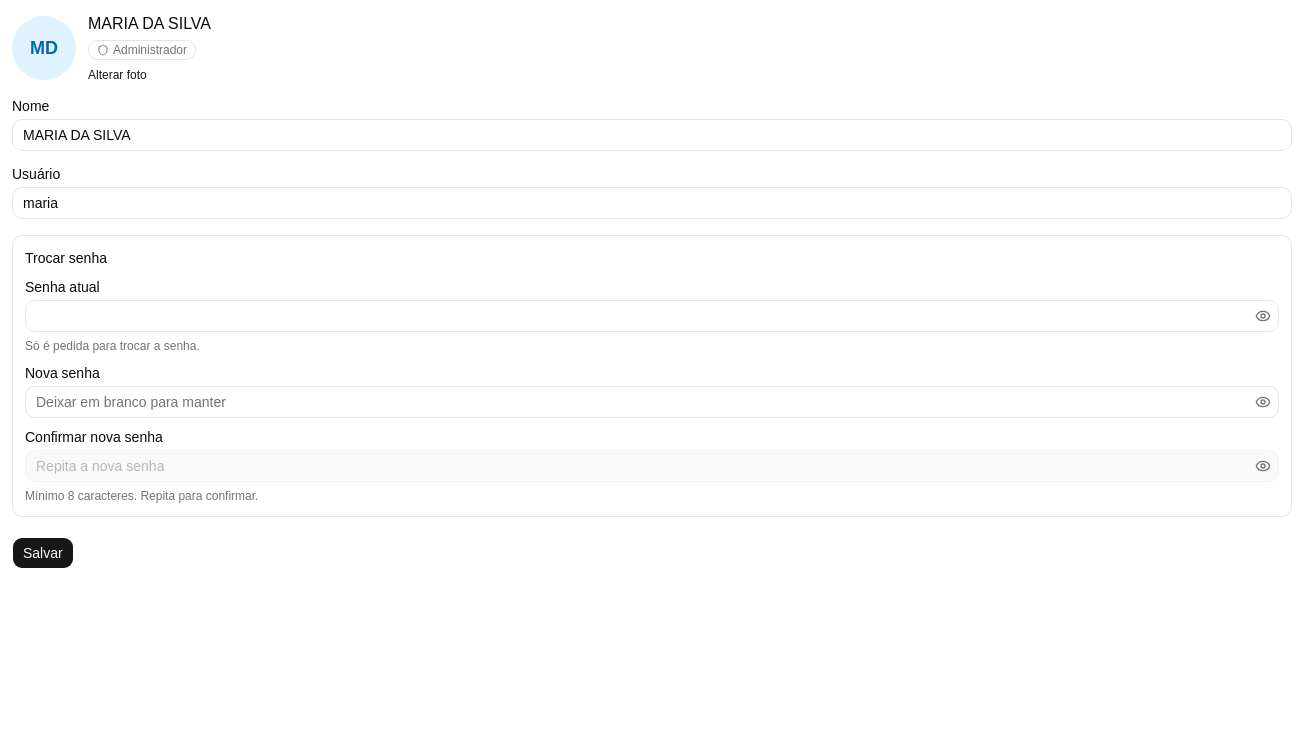
Test: Minha conta: trocar a senha › sem a senha atual não envia e explica no campo
In the password field labelled "Nova senha": (652, 402) [25, 386, 1279, 418], type "senha-nova-123"
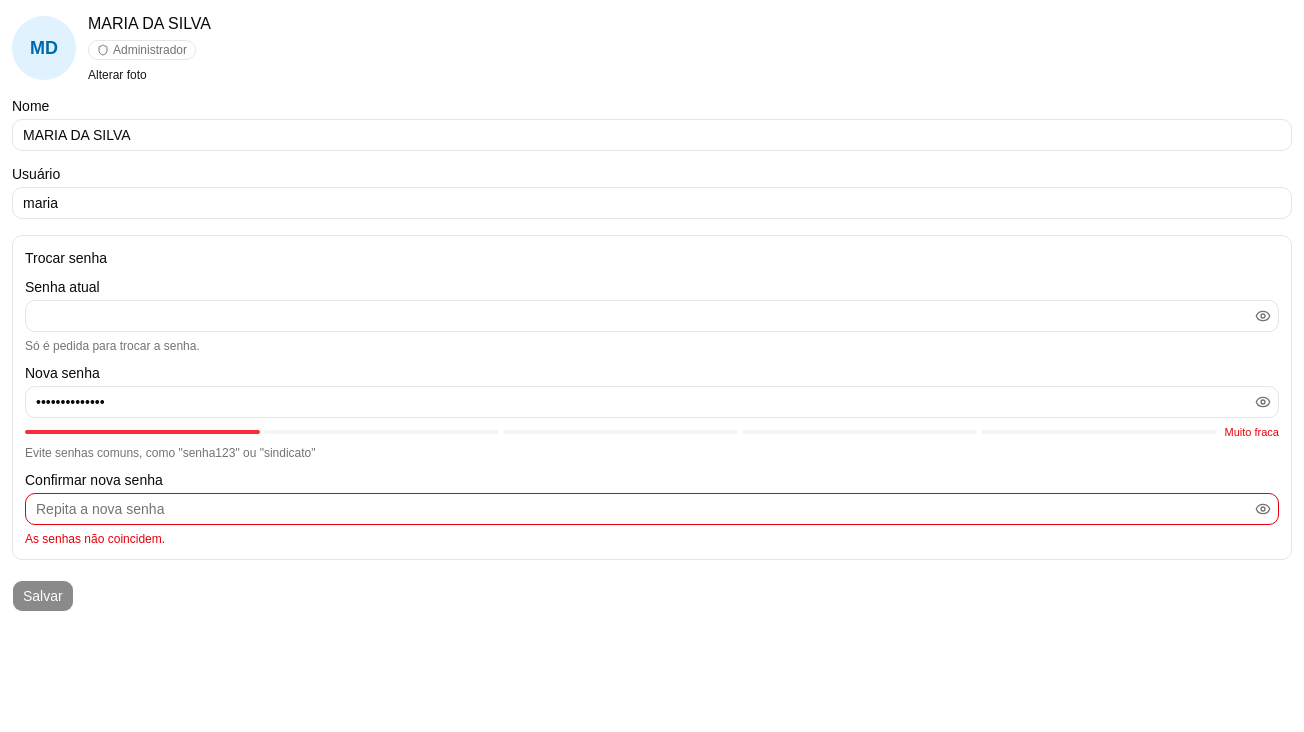
In the password field labelled "Confirmar nova senha": (652, 508) [25, 492, 1279, 524], type "senha-nova-123"
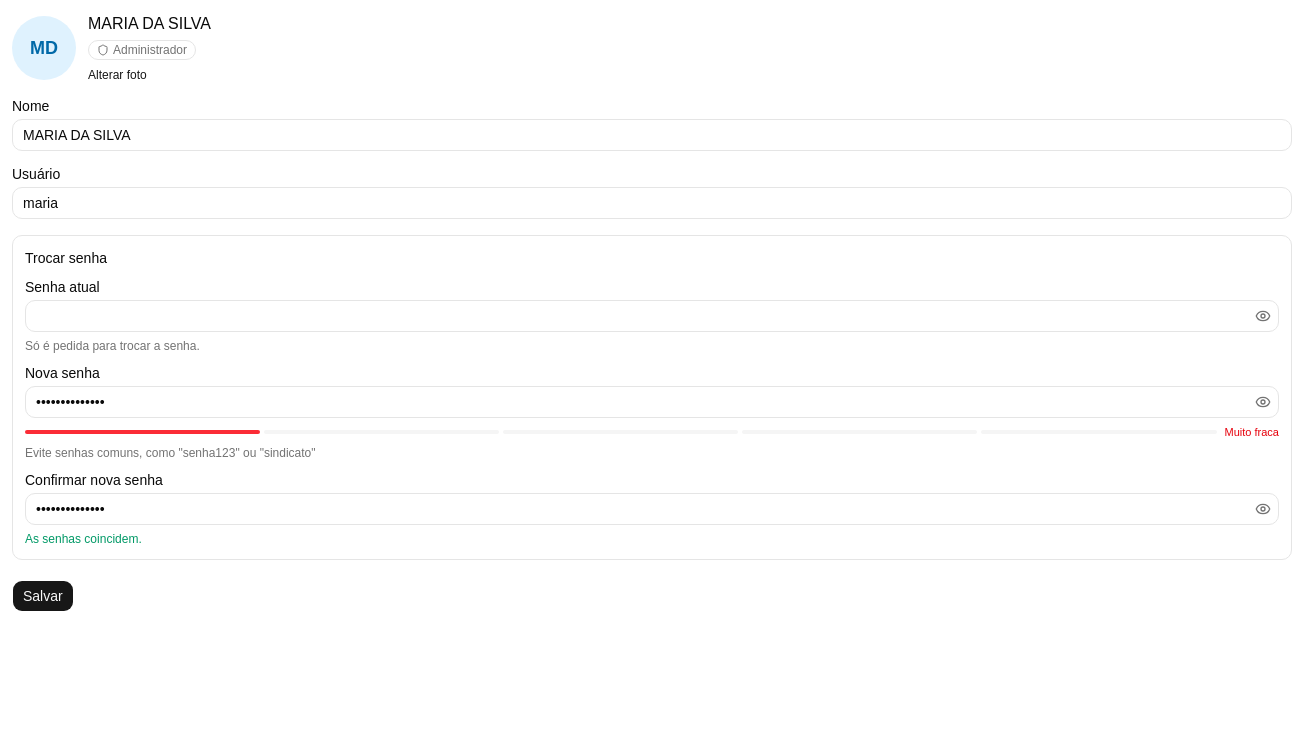
Click the button "Salvar": (43, 596) [12, 580, 74, 612]
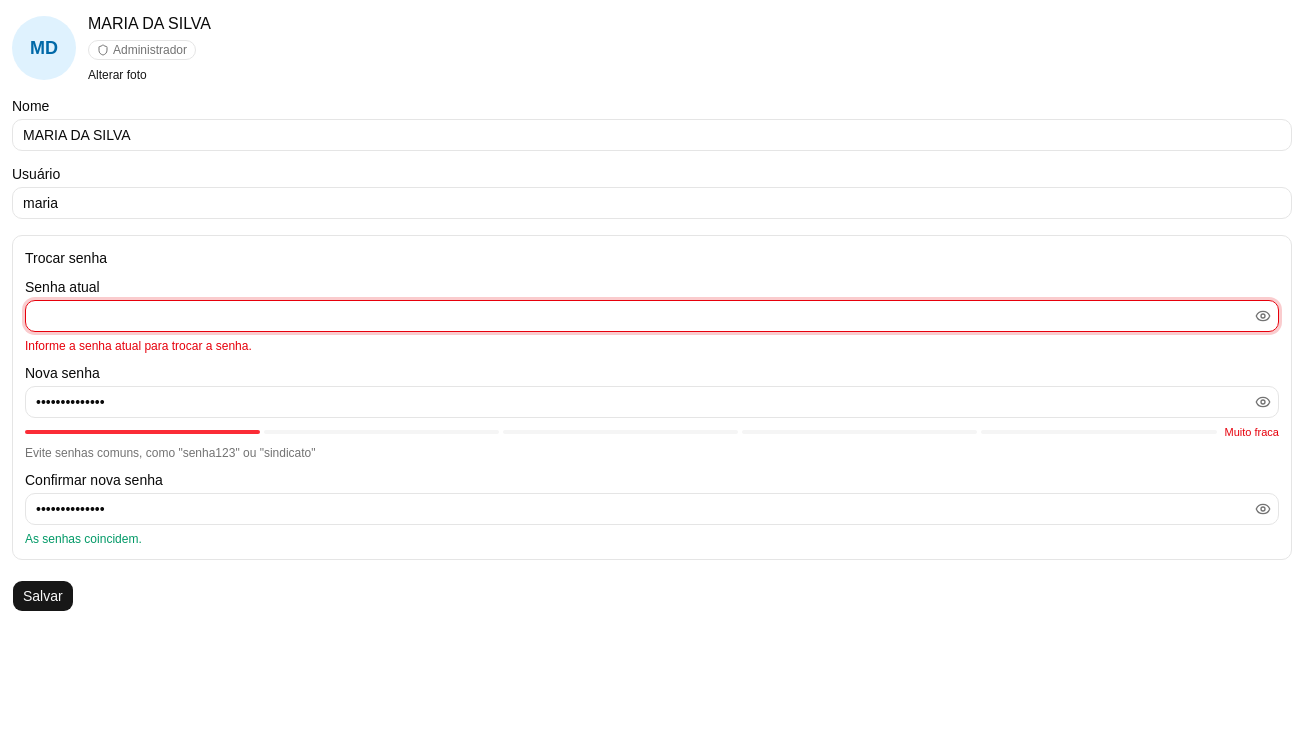
Result: the text "Informe a senha atual para trocar a senha." is shown at [25, 339, 252, 353]
